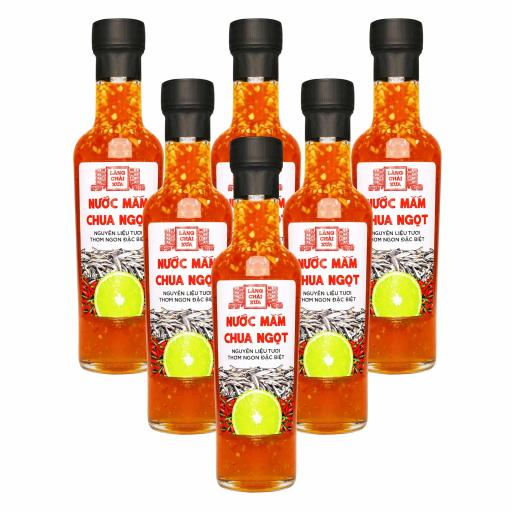bottle: (74, 18, 164, 374), (283, 79, 373, 434), (212, 137, 301, 492), (143, 79, 232, 434), (352, 19, 441, 374), (212, 18, 300, 199)
